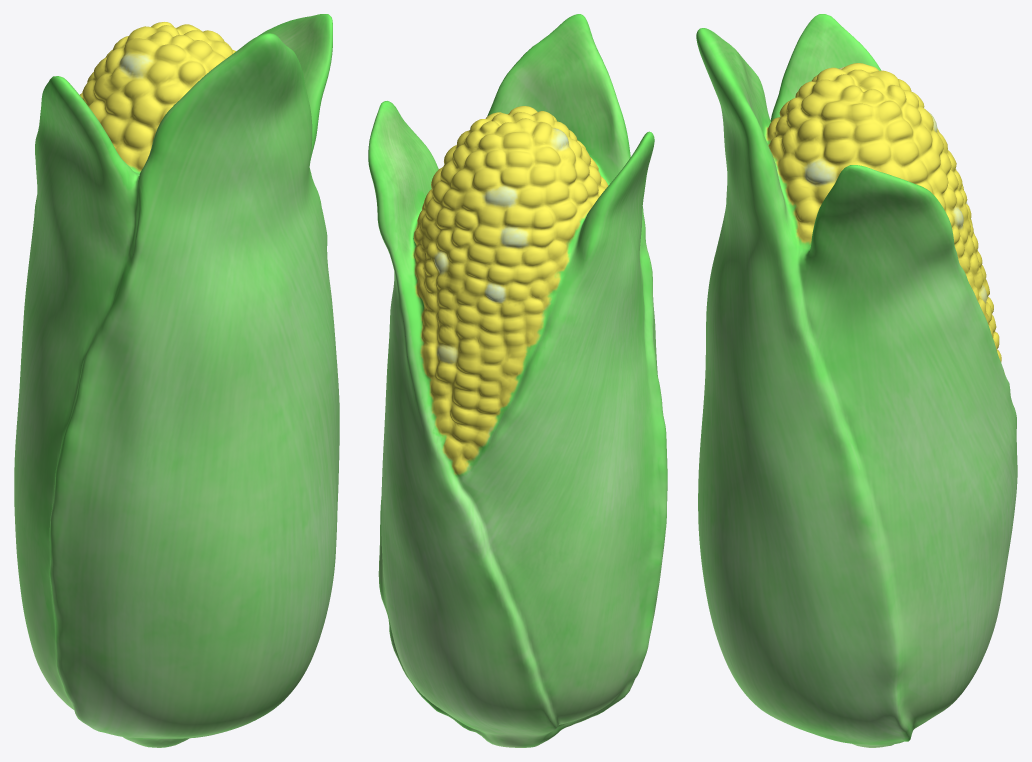
Rendered from corn.glb.
3 renders of one model, left to right at view 1: azimuth 30°, elevation 25°; view 2: azimuth 150°, elevation 25°; view 3: azimuth 270°, elevation 25°, orthographic. The views are drawn at different scales.
Visible parts, largest first — view 1: Retopo_Roundcube.001; view 2: Retopo_Roundcube.001; view 3: Retopo_Roundcube.001.
Boxes of the visible parts, box(x1,y1,x2,y2) form: Retopo_Roundcube.001: box(14, 14, 339, 747); Retopo_Roundcube.001: box(368, 14, 667, 747); Retopo_Roundcube.001: box(696, 14, 1017, 747).
Bounding box in the file's own units: 2.16 × 5.23 × 2.11.
1 material, 1 textured.
